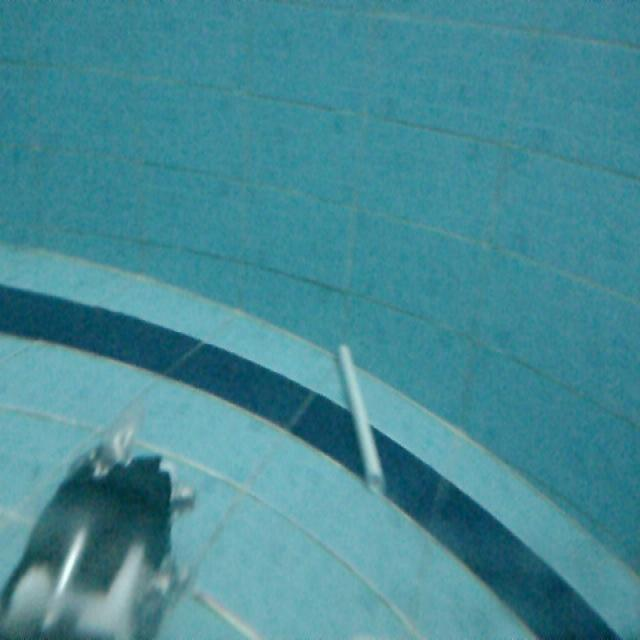Cube: (338, 344, 384, 495)
